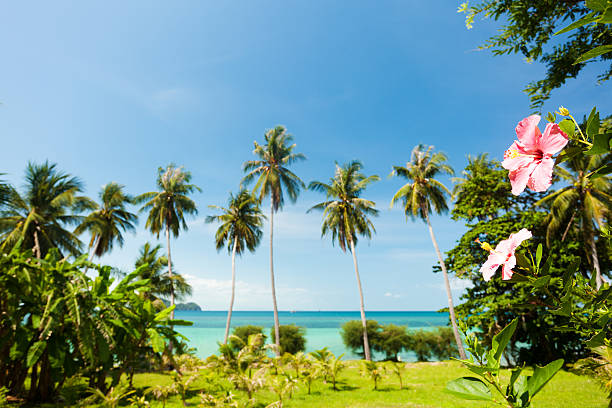Hibiscus: (511, 116, 574, 207), (469, 223, 549, 293)
